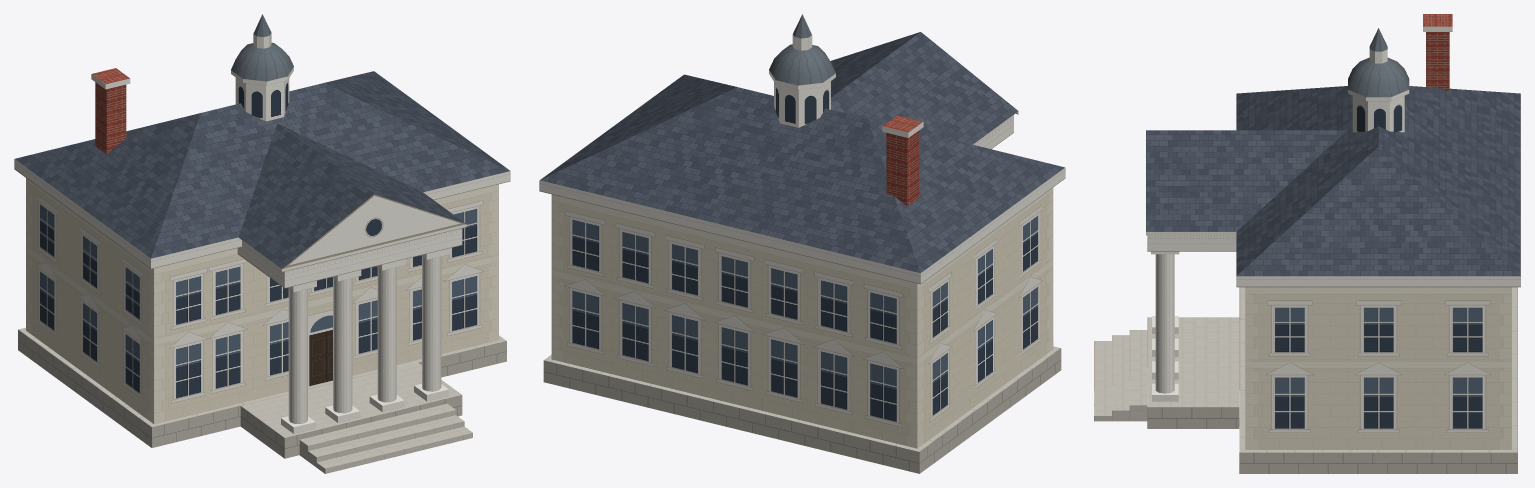
The model's file is whitehouse.glb.
3 renders of one model, left to right at view 1: azimuth 30°, elevation 25°; view 2: azimuth 150°, elevation 25°; view 3: azimuth 270°, elevation 25°, orthographic. The views are drawn at different scales.
Parts seen in each view (by area): view 1: WhiteHouse; view 2: WhiteHouse; view 3: WhiteHouse.
Boxes of the visible parts, x1,y1,x2,y2 form: WhiteHouse: (14, 14, 510, 473); WhiteHouse: (539, 14, 1065, 473); WhiteHouse: (1094, 14, 1520, 473).
Size of the model in its own units: 14.6 by 13.25 by 14.4.
1 material, 1 textured.
